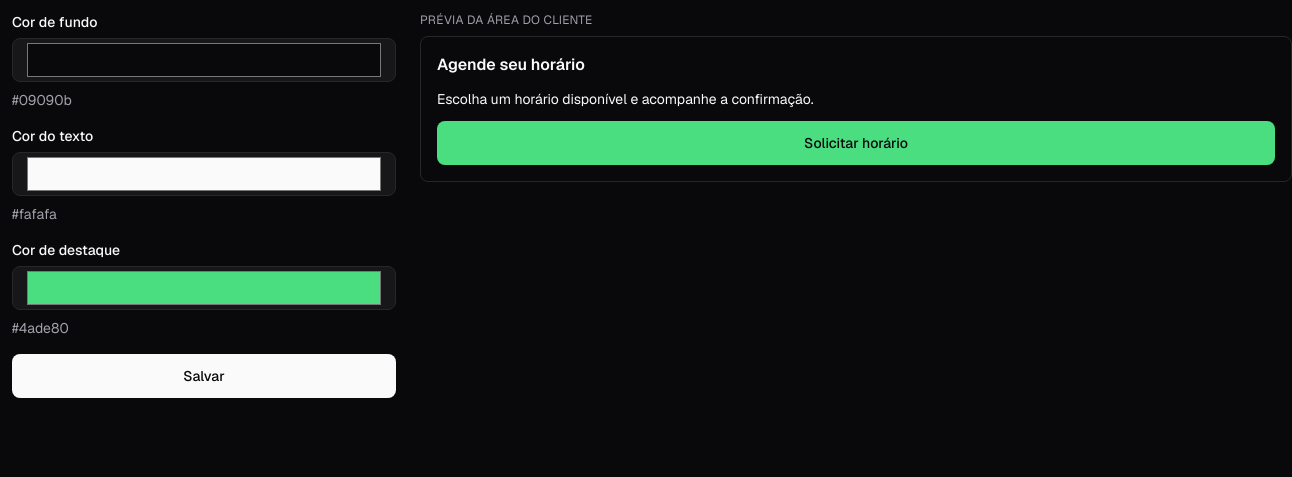
Test: AppearanceSettingsForm › -> (negative companion) exibe a mensagem devolvida pelo servidor quando o salvamento falha
What coordinates should you click on to do the following:
click the button "Salvar"
I would click on:
 (204, 376)
Its box is [12,354,396,398].
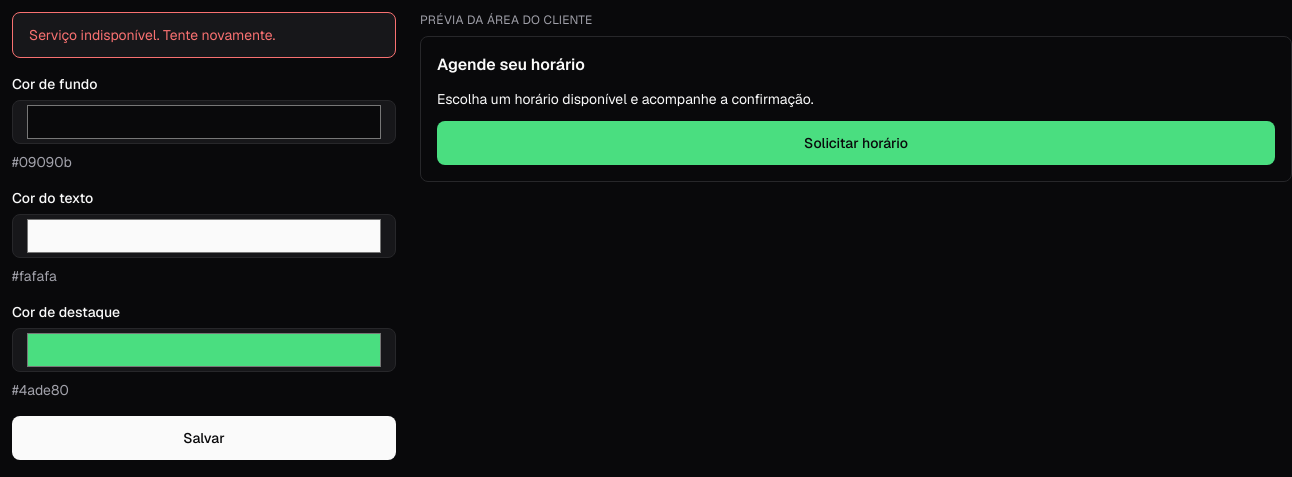
Result: the message reads "Serviço indisponível. Tente novamente." at [29,26,275,44]
